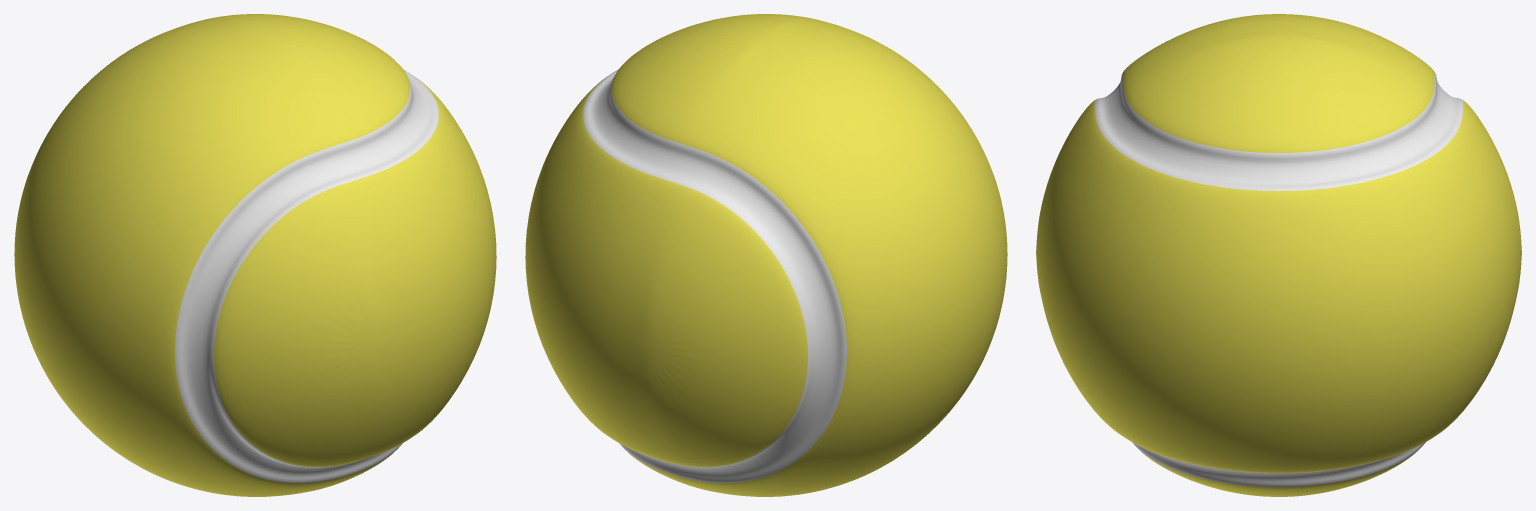
Rendered from tenisuboru.glb.
The picture shows the model from 3 angles, left to right: view 1: azimuth 30°, elevation 25°; view 2: azimuth 150°, elevation 25°; view 3: azimuth 270°, elevation 25°; orthographic projection.
Visible parts, largest first — view 1: 球; view 2: 球; view 3: 球.
Part boxes in pixels (left/top/right/bottom): 球: left=14, top=14, right=496, bottom=496; 球: left=525, top=14, right=1007, bottom=496; 球: left=1036, top=14, right=1521, bottom=496.
Size of the model in its own units: 1.97 by 1.99 by 1.99.
